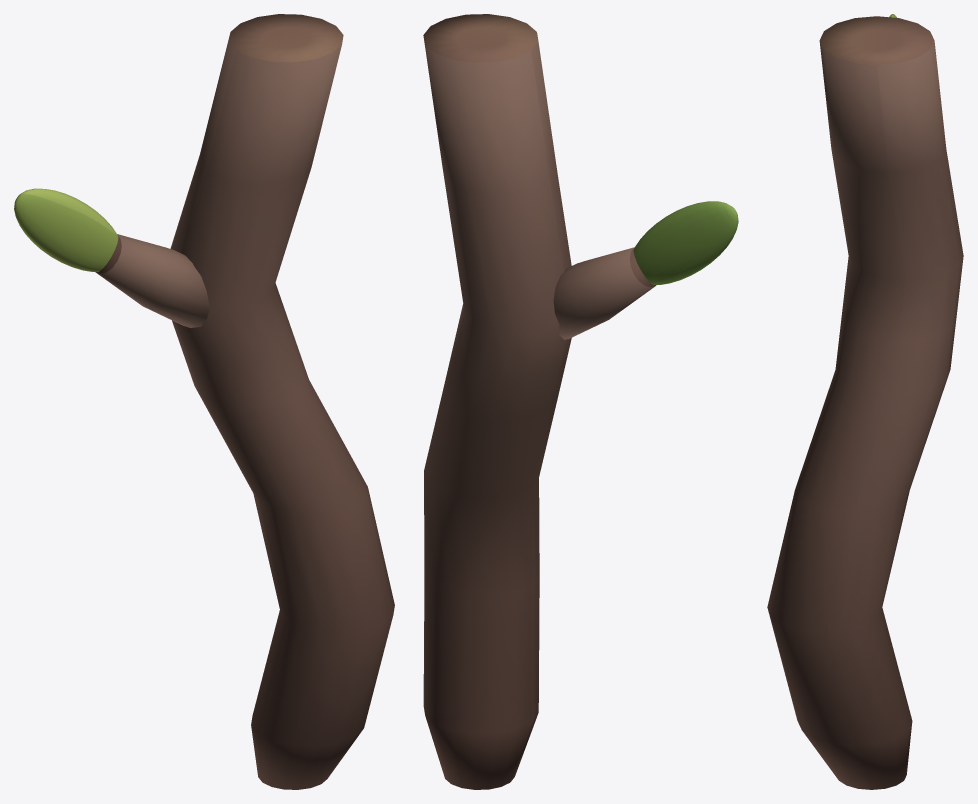
Rendered from wand.fbx.
3 views of the same model, side by side, from view 1: azimuth 30°, elevation 25°; view 2: azimuth 150°, elevation 25°; view 3: azimuth 270°, elevation 25° (orthographic).
Visible parts, largest first — view 1: Magic_staff_low; view 2: Magic_staff_low; view 3: Magic_staff_low.
Boxes of the visible parts, x1,y1,x2,y2 form: Magic_staff_low: (14,14,394,789); Magic_staff_low: (423,14,738,789); Magic_staff_low: (767,14,963,789).
Size of the model in its own units: 63.22 by 131 by 31.85.
